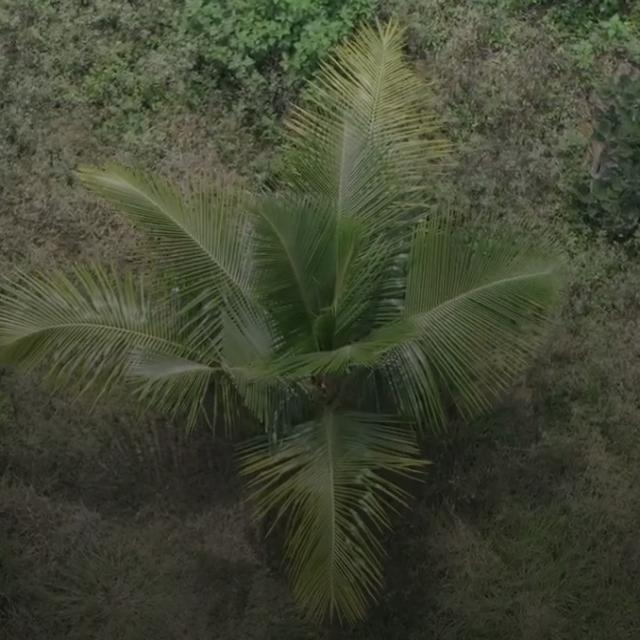notMangoTree: (0, 9, 568, 630)
